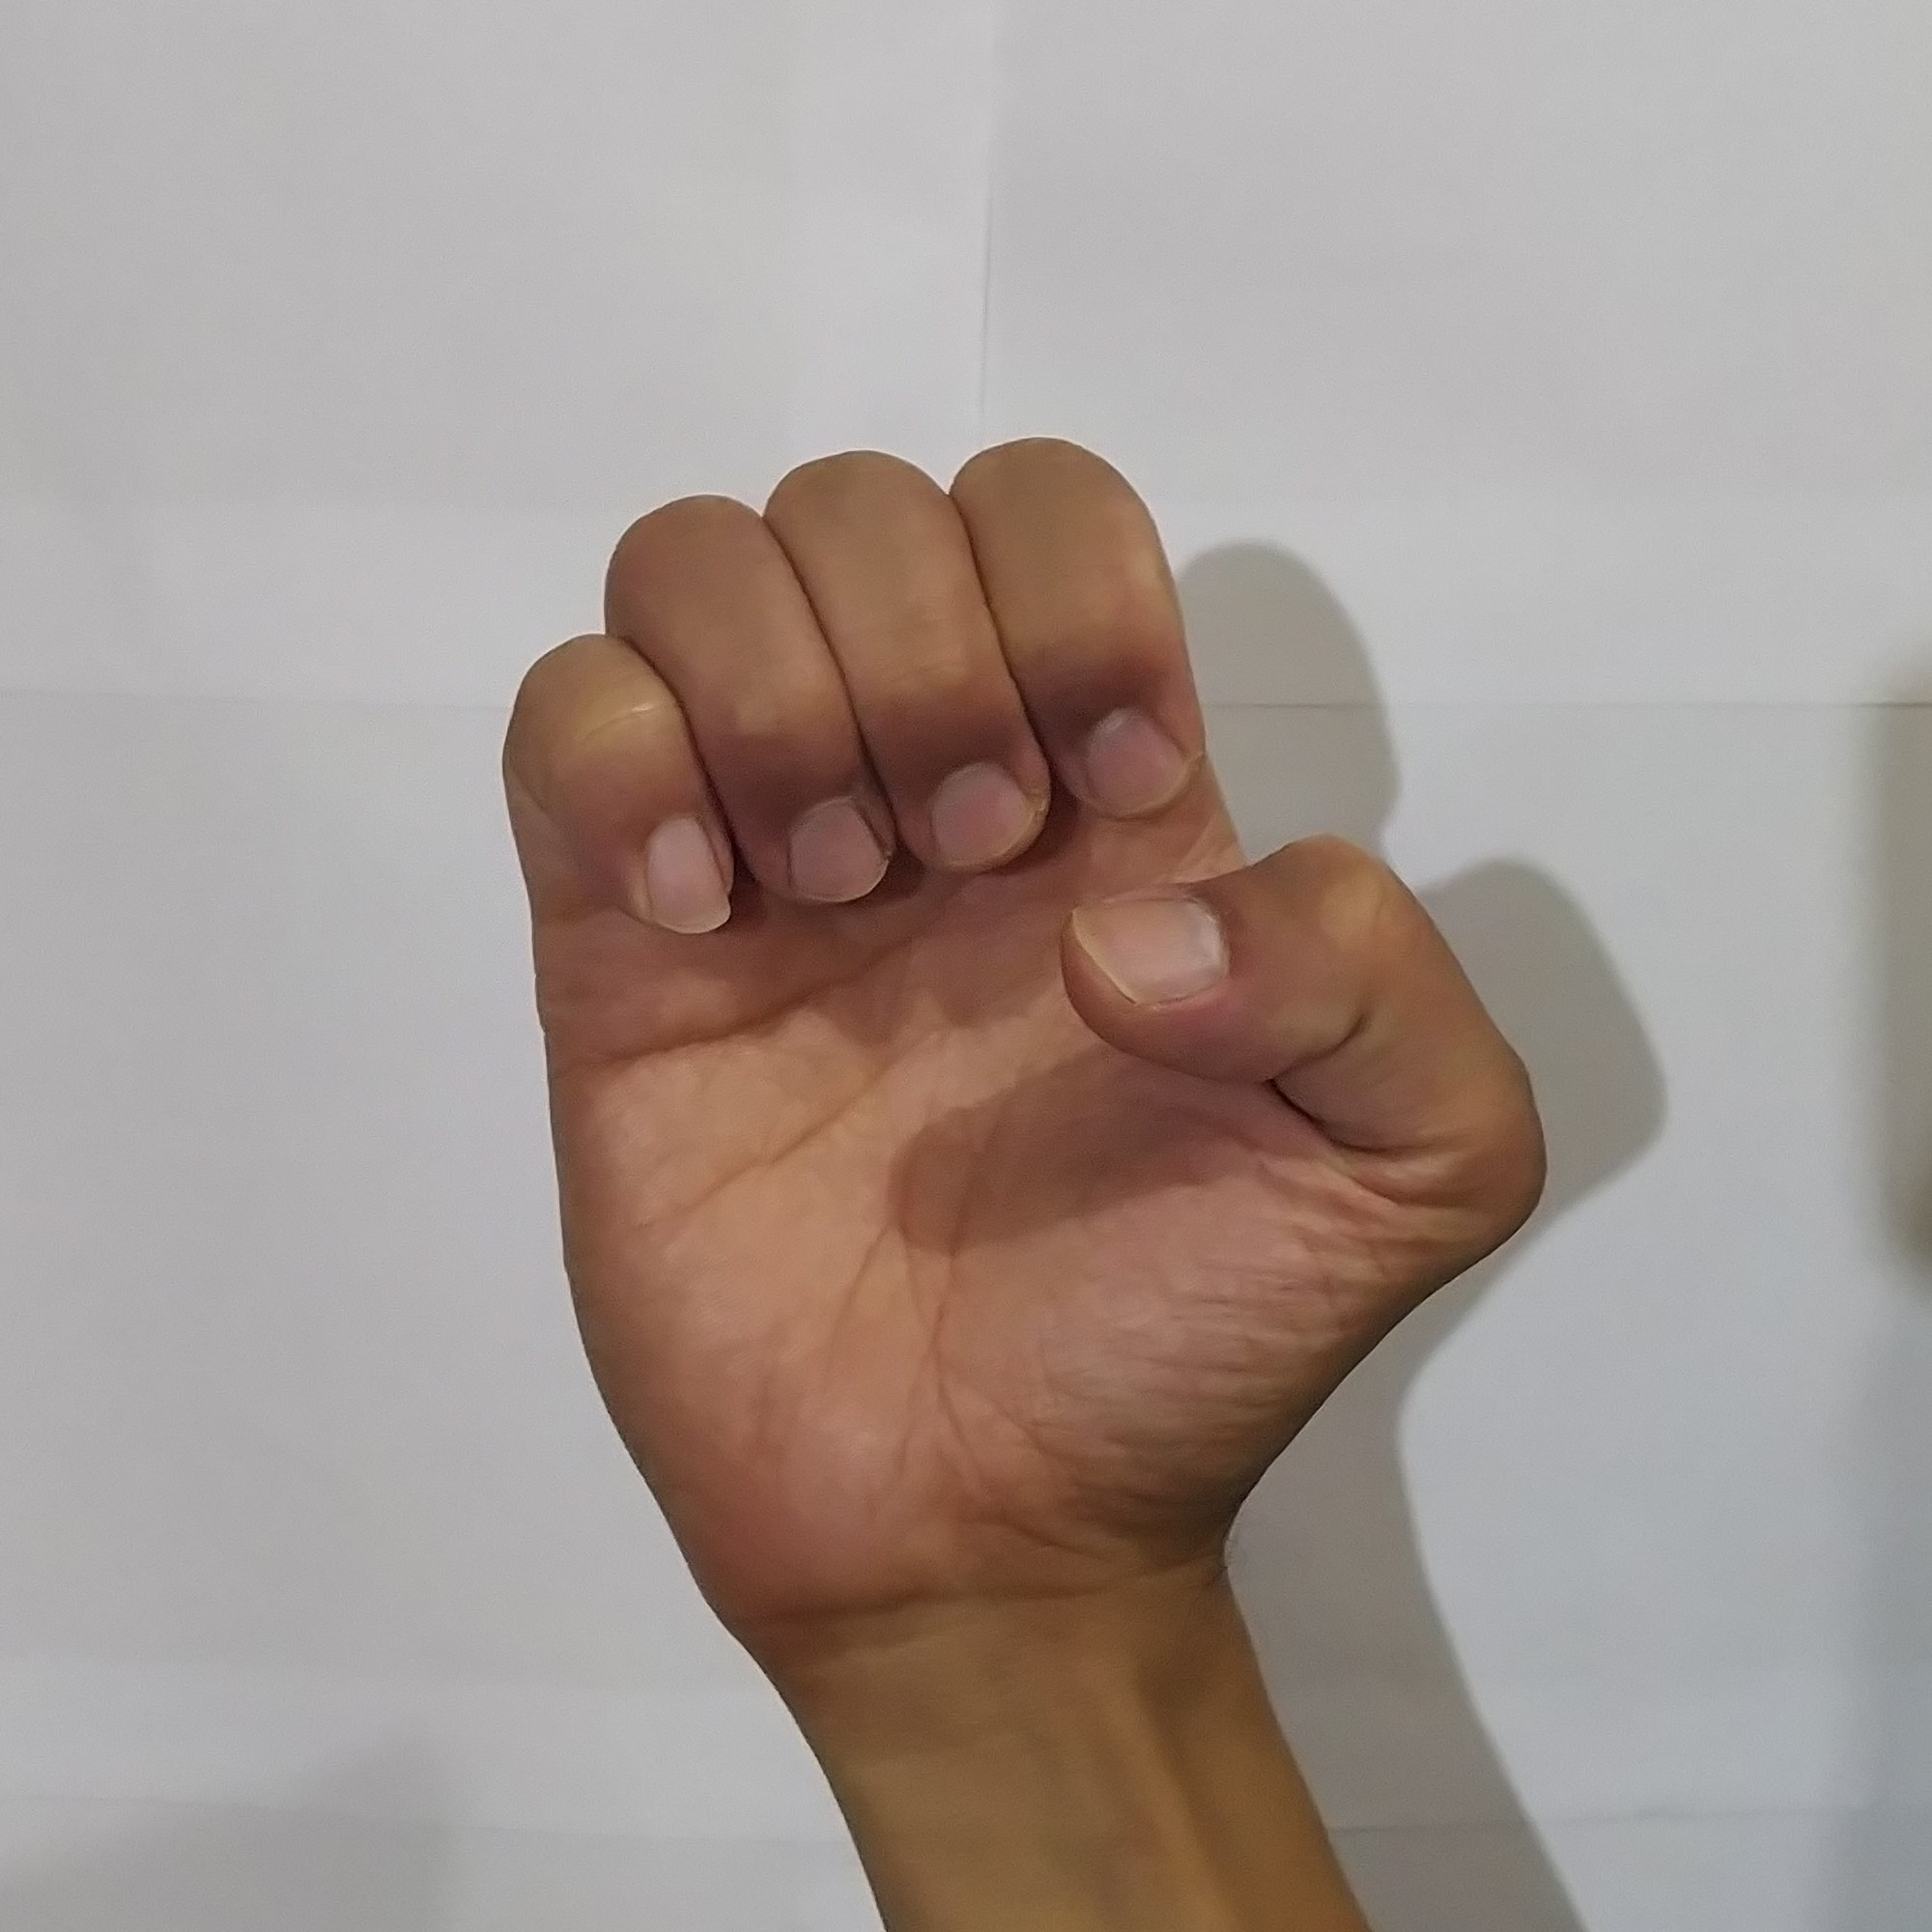E: (471, 414, 1571, 1583)
